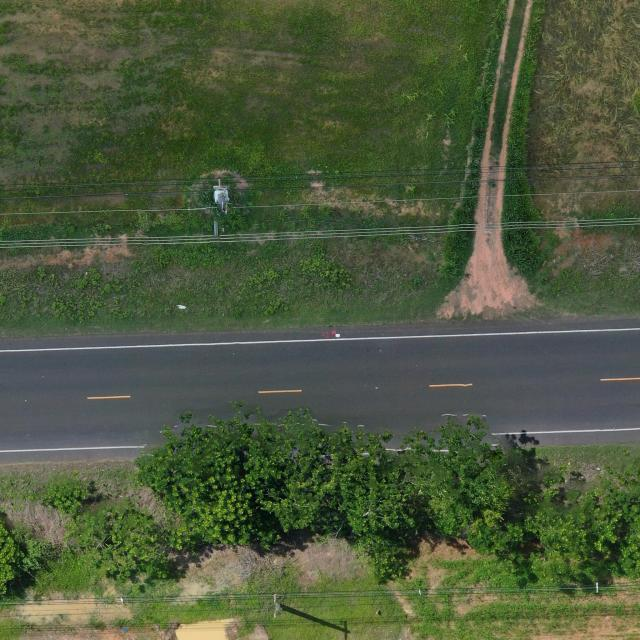Tree: (130, 398, 344, 552), (399, 413, 529, 563), (324, 428, 416, 584), (521, 468, 640, 586), (67, 504, 171, 587), (0, 514, 47, 596), (39, 479, 91, 518)
